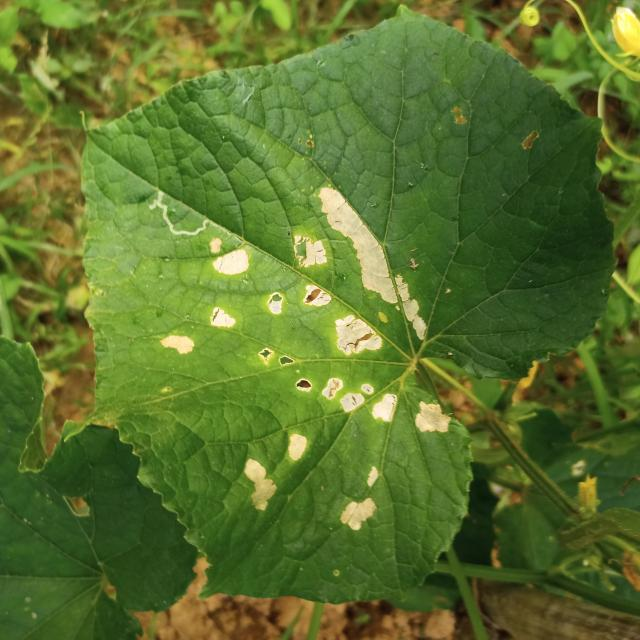disease_cucumber: (255, 185, 452, 432), (158, 238, 251, 358), (243, 434, 308, 511), (336, 464, 379, 535)
